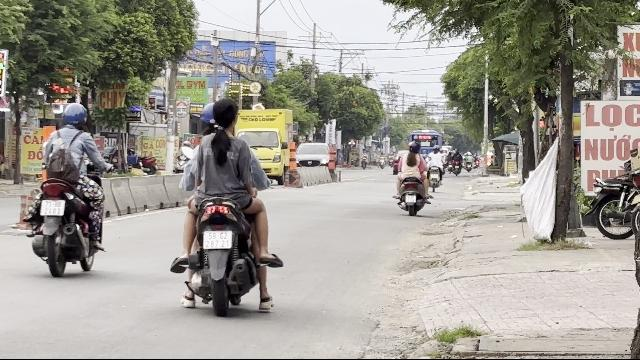helmet: (60, 103, 88, 130)
licenseplate: (204, 230, 232, 248), (40, 200, 64, 216)
motorcyclist: (172, 92, 282, 314), (26, 100, 109, 276), (621, 106, 639, 238)
nohelmet: (210, 97, 240, 135)
